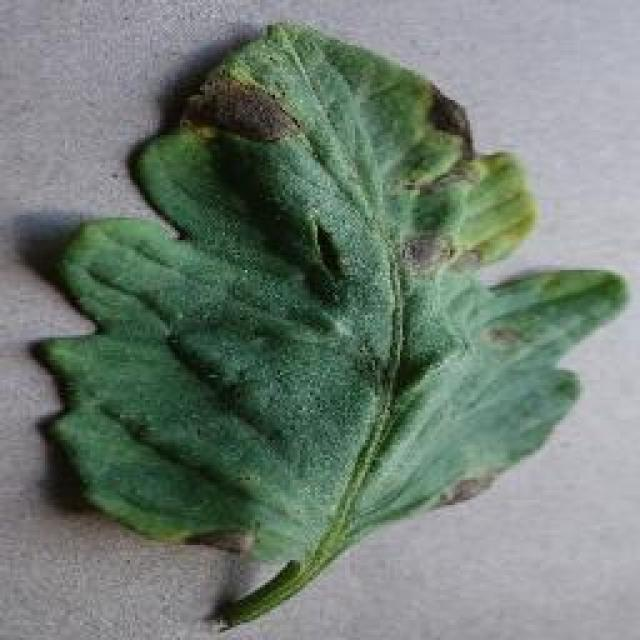Tomato___Early_blight: (28, 25, 631, 628)
